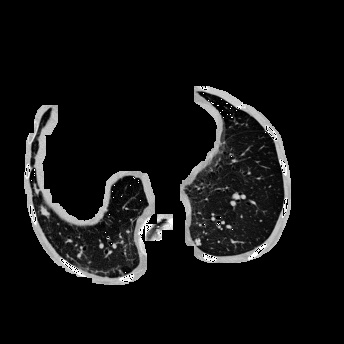PN: (194, 238, 202, 246)
